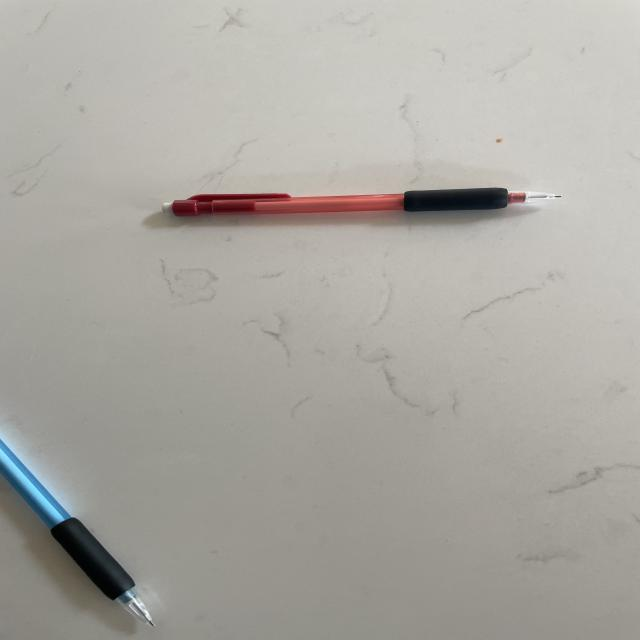mechanical-pencils: (2, 435, 168, 632), (163, 184, 576, 220)
